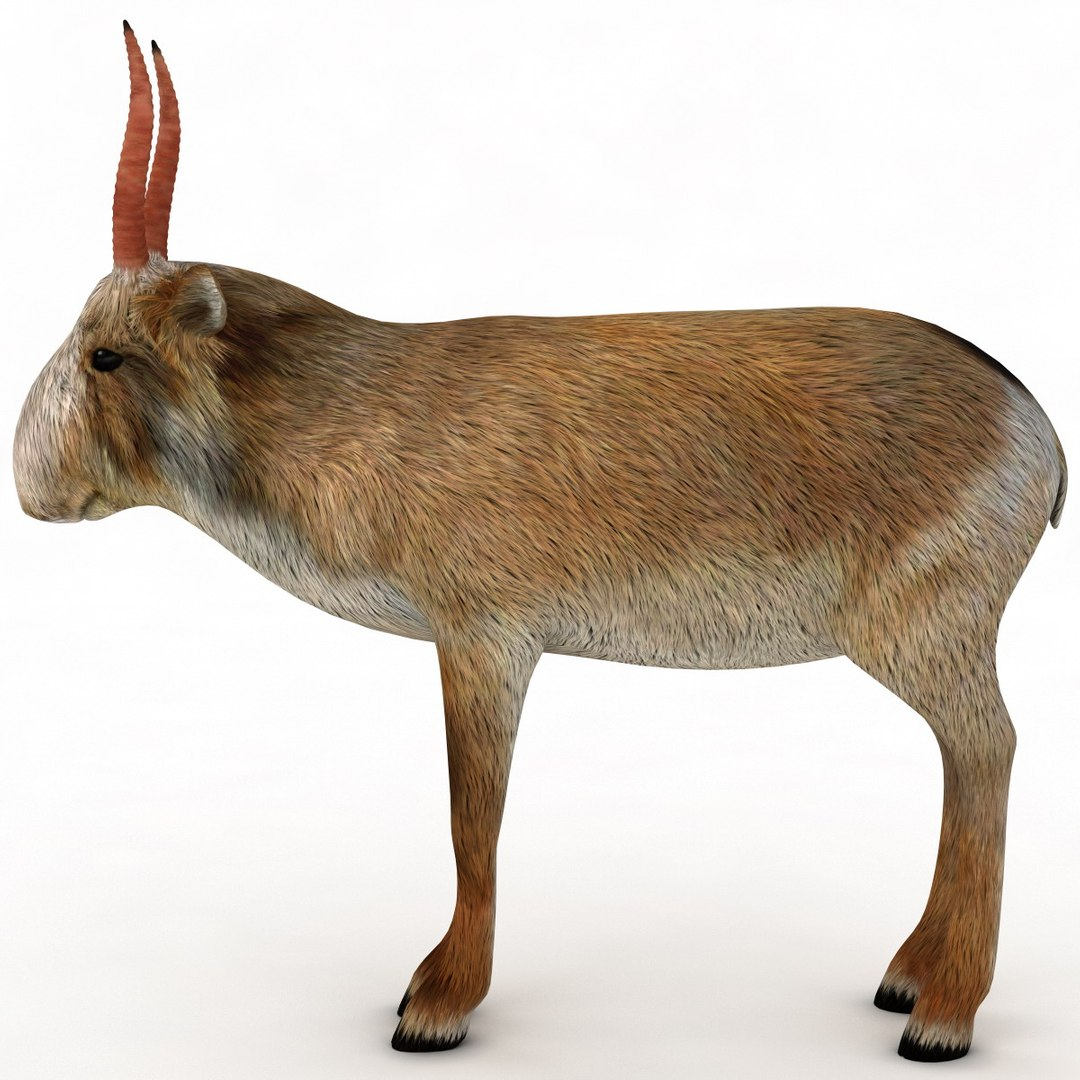saiga: (23, 18, 1080, 1051)
